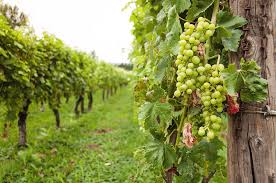grapes: (181, 23, 225, 139)
